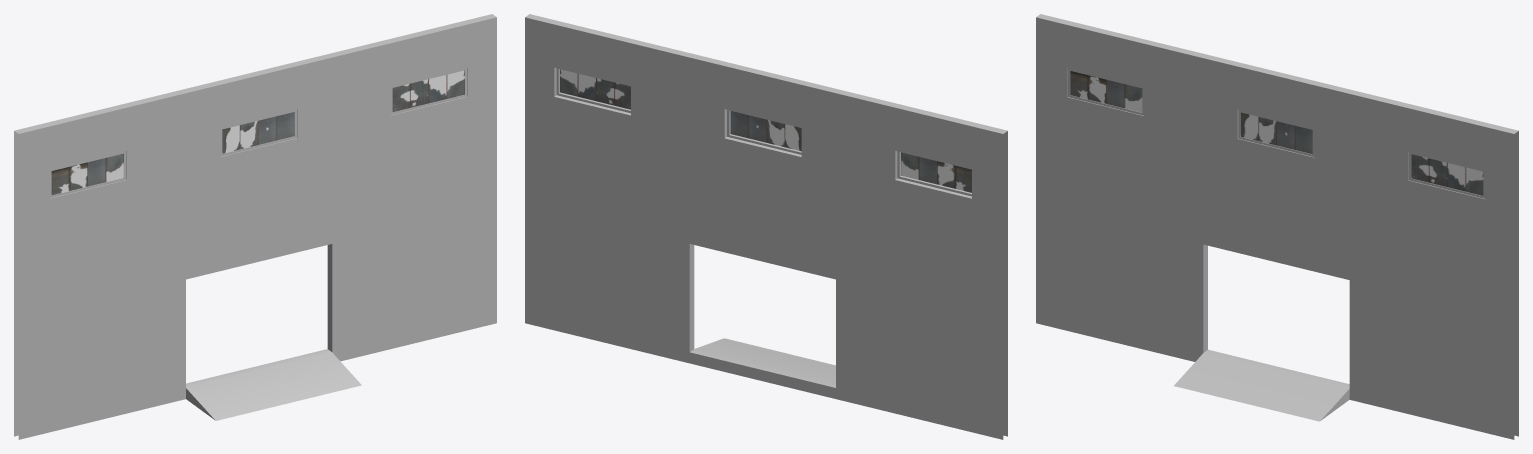
File: Factory3Wall10.FBX
3 views of the same model, side by side, from view 1: azimuth 30°, elevation 25°; view 2: azimuth 150°, elevation 25°; view 3: azimuth 330°, elevation 25° (orthographic).
Parts seen in each view (by area): view 1: Factory3Wall10, Factory3Wall10Glass; view 2: Factory3Wall10, Factory3Wall10Glass; view 3: Factory3Wall10, Factory3Wall10Glass.
Boxes of the visible parts, x1=… form: Factory3Wall10: x1=14, y1=14, x2=496, y2=439; Factory3Wall10Glass: x1=51, y1=70, x2=464, y2=195; Factory3Wall10: x1=525, y1=14, x2=1007, y2=439; Factory3Wall10Glass: x1=560, y1=69, x2=971, y2=192; Factory3Wall10: x1=1036, y1=14, x2=1518, y2=439; Factory3Wall10Glass: x1=1070, y1=71, x2=1483, y2=195.
Size of the model in its own units: 1800 by 1100 by 225.
